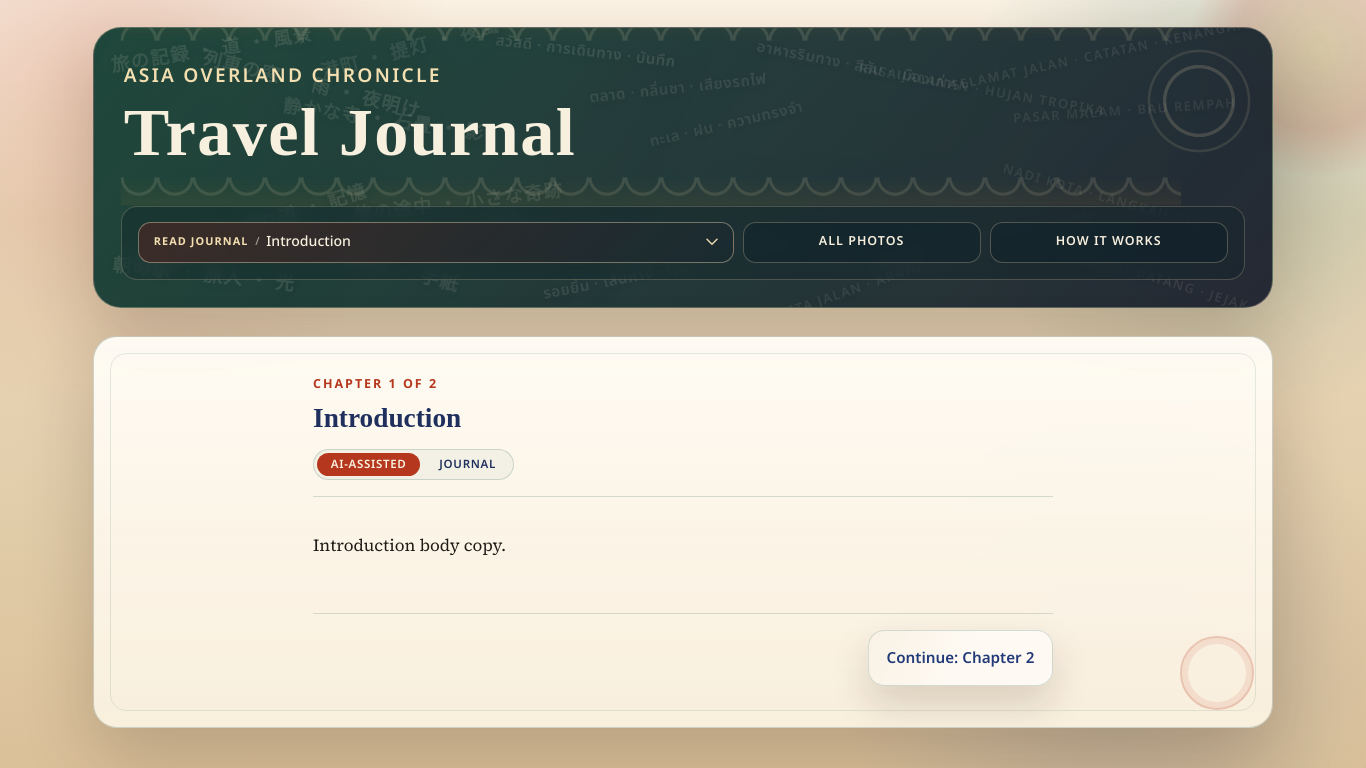
Scenario: App › toggles between narrative and journal content when a days file exists
This screenshot has width=1366, height=768.
Check: the heading "Introduction" is shown, box [313,403,461,433]
Check: the text "Introduction body copy." is shown, box [313,533,506,557]
Step 1. Click the button "Journal" → (468, 464), box [426,453,510,476]
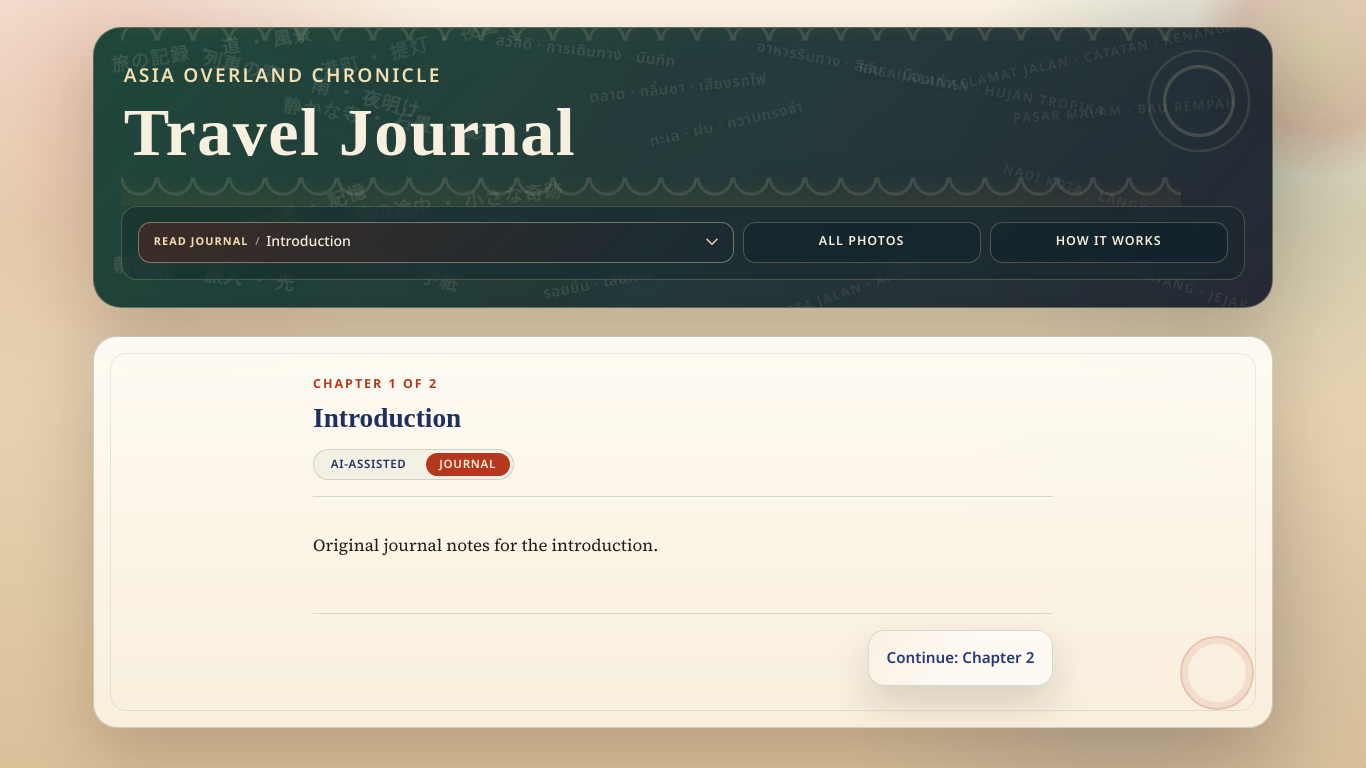
Check: the text "Original journal notes for the introduction." is shown, box [313,533,658,557]
Check: the text "Introduction body copy." is gone
Step 2. Click the button "AI-Assisted" → (369, 464), box [317,453,420,476]
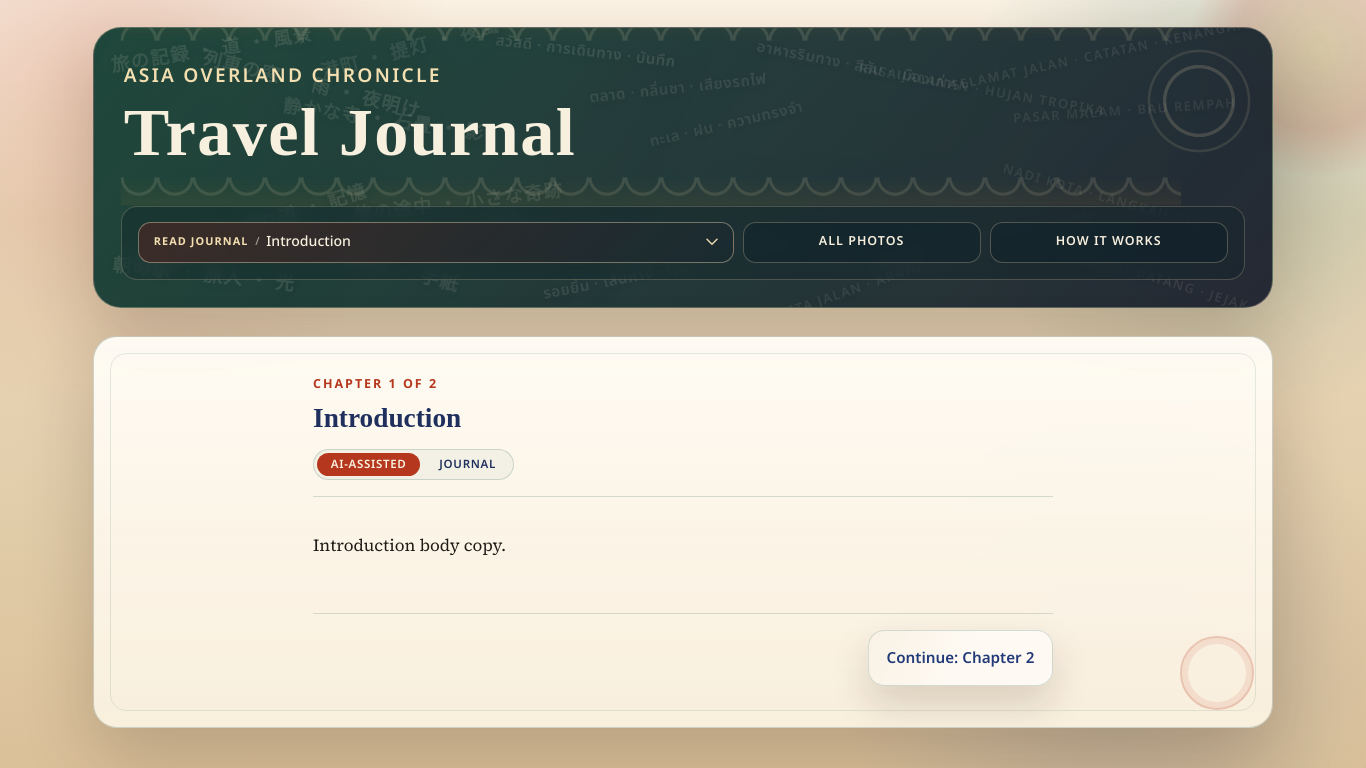
Check: the text "Introduction body copy." is shown, box [313,533,506,557]
